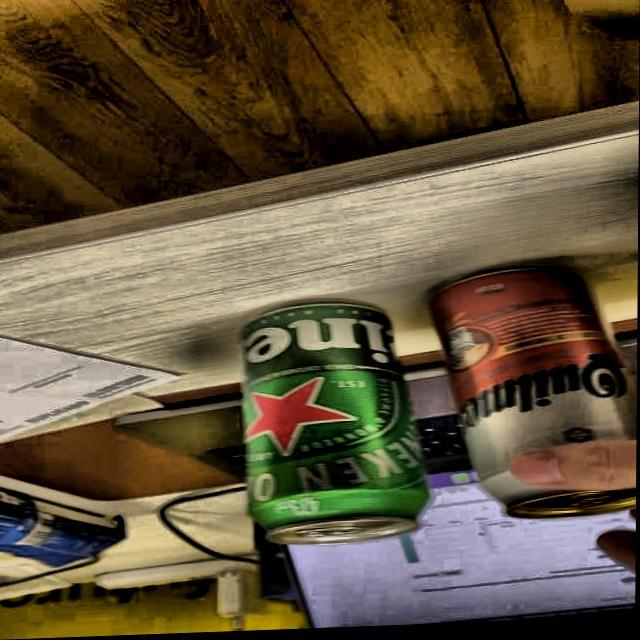litter: (424, 268, 638, 534), (232, 296, 431, 558)
